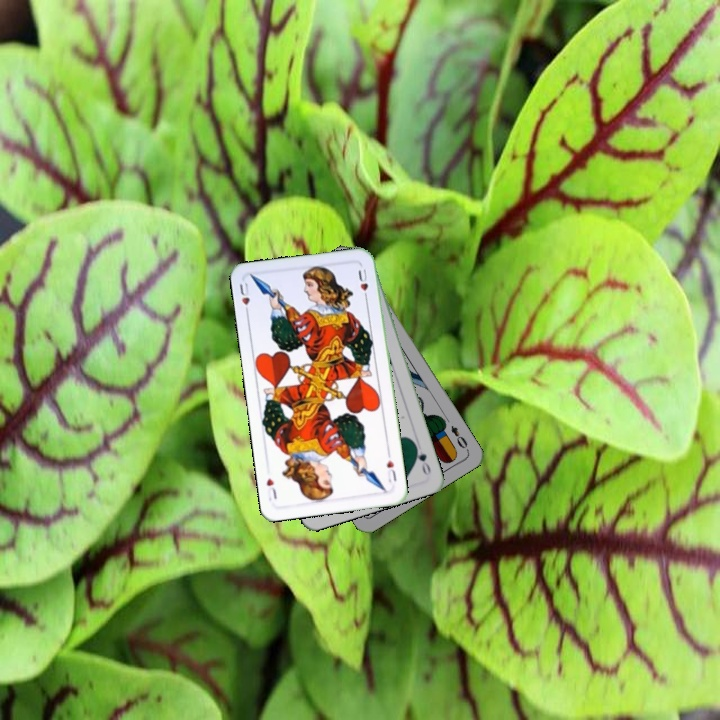EO: (447, 421, 471, 454)
GO: (410, 440, 433, 478)
HU: (236, 278, 252, 318), (382, 456, 399, 485)
